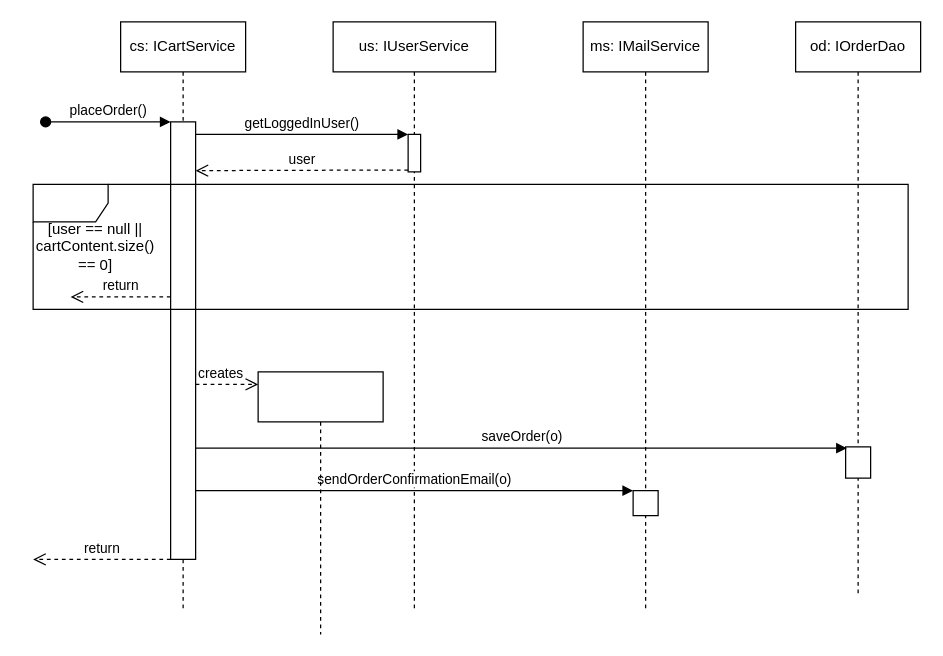
This 943x656 diagram has some shape labels left out. The box of each missing label's shape, as (x1, y1, x2, y2) in pixels:
o: Order: (257, 371, 383, 634)
opt: (32, 183, 908, 309)
